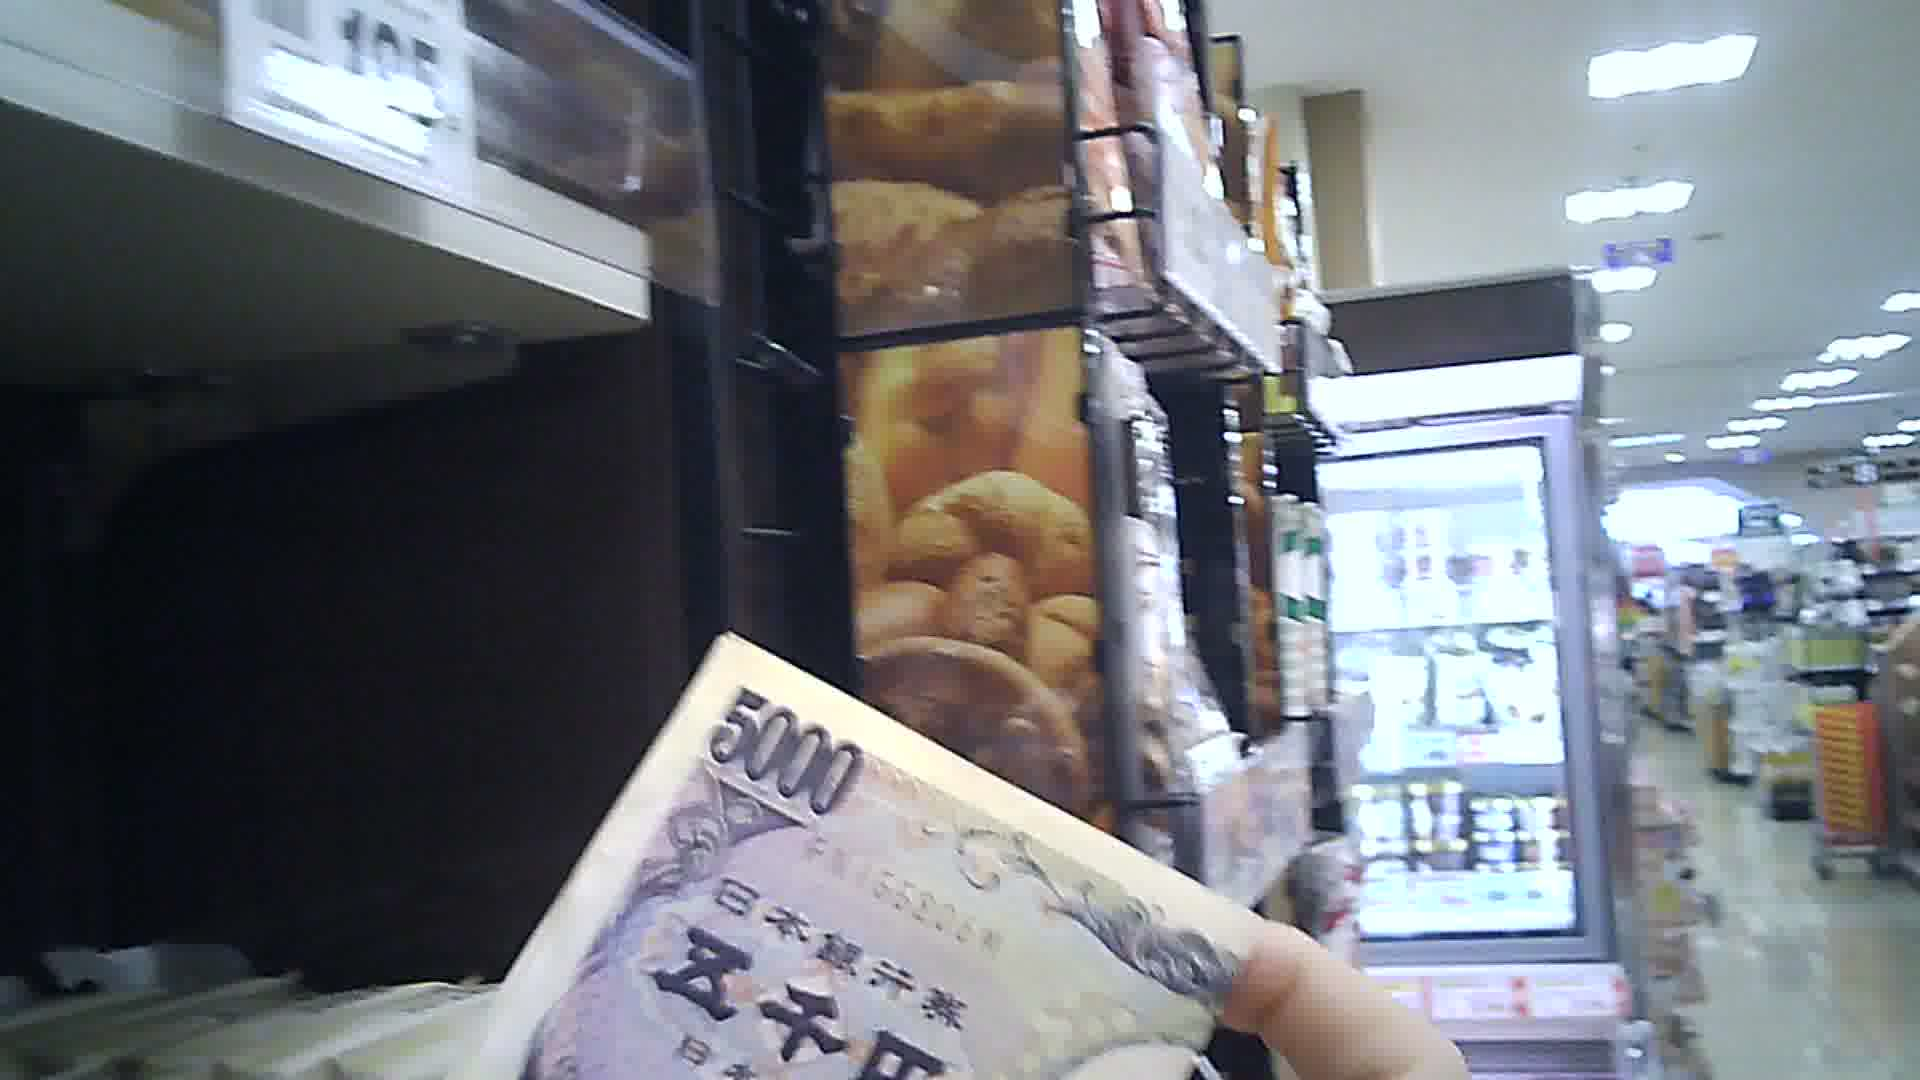5,000 Yen: (460, 617, 1296, 1073)
